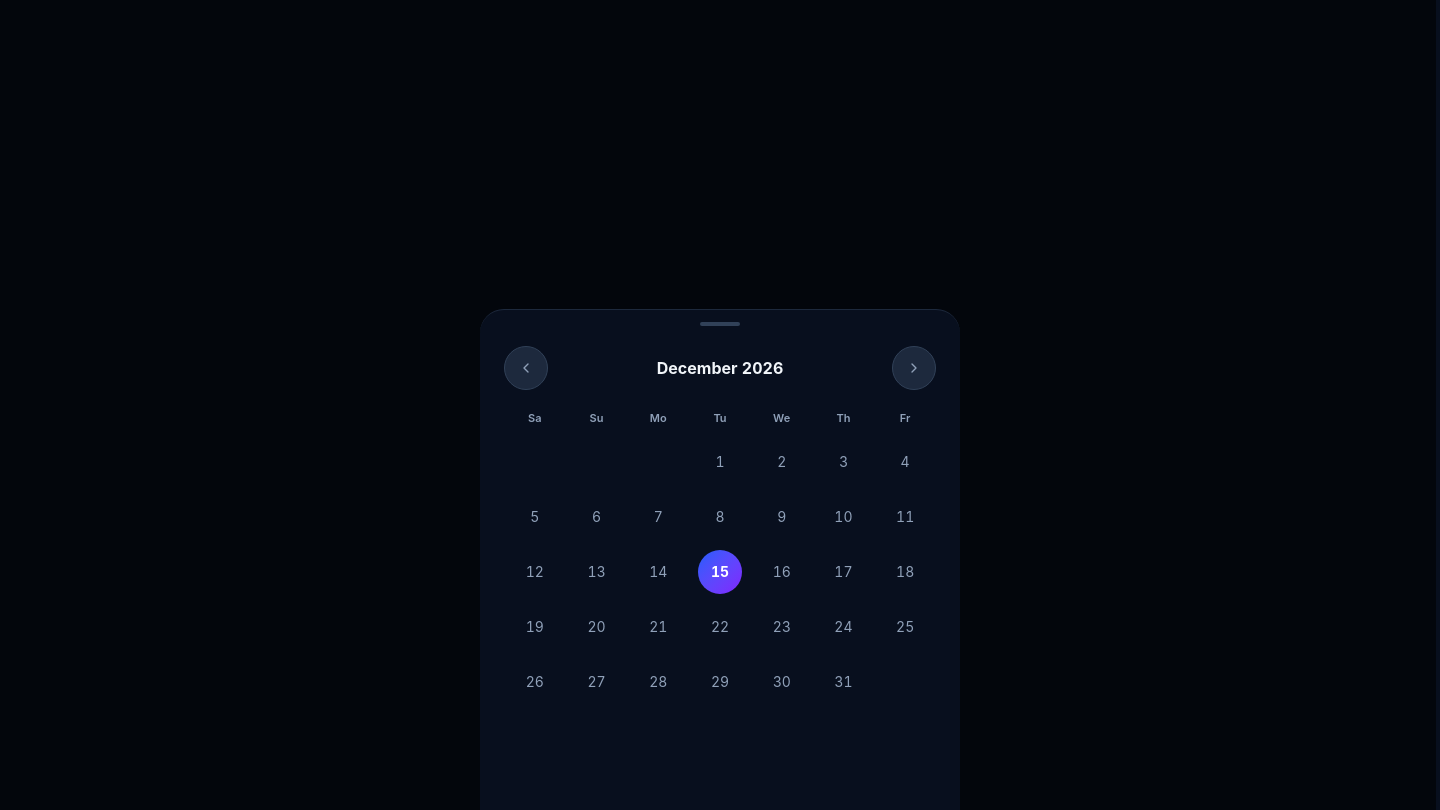
Test: DatePickerSheet › wraps from December to January when navigating forward
Click the button named "next month". click: click(914, 368)
box: [892, 346, 936, 390]
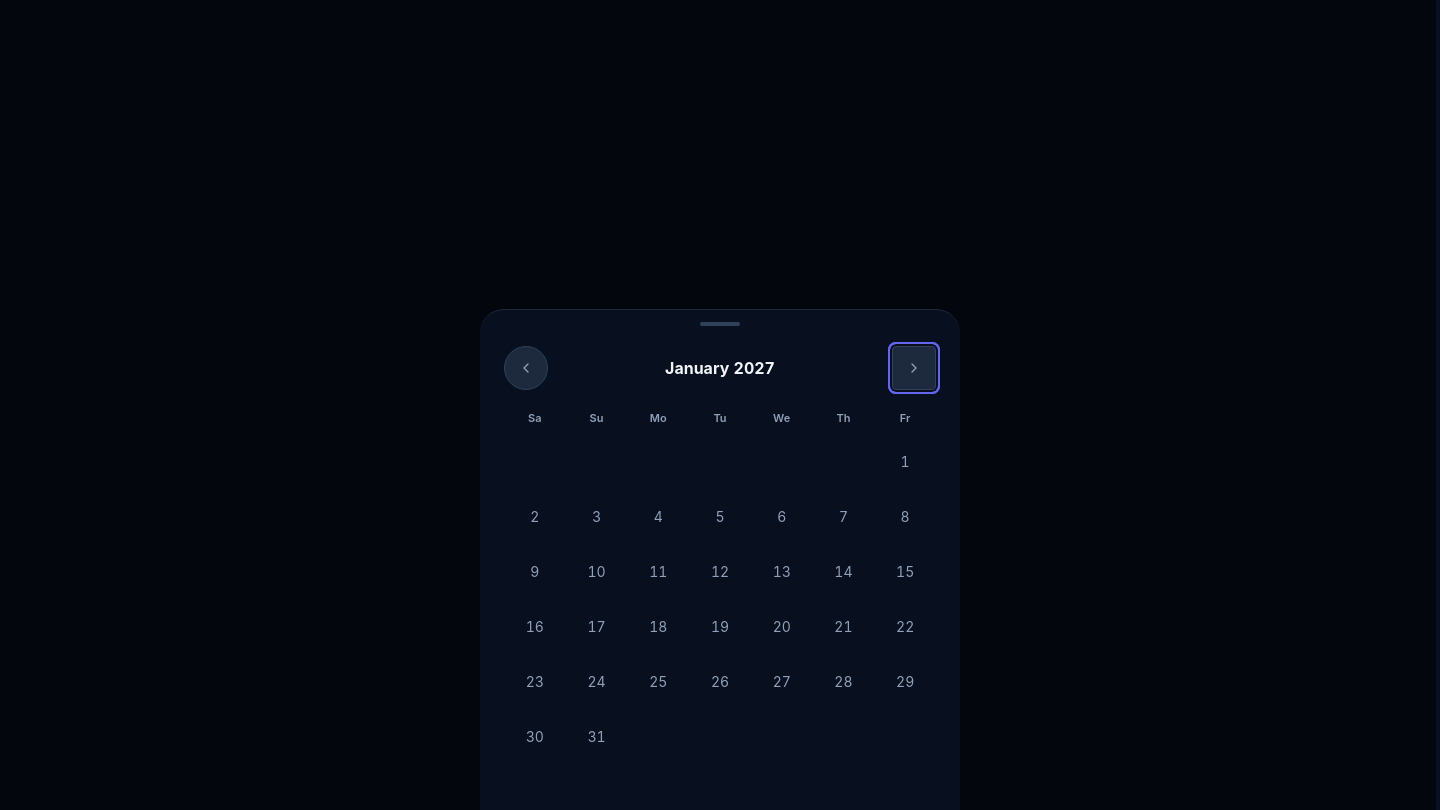
Result: the text "January 2027" is shown at [665, 356, 775, 380]
